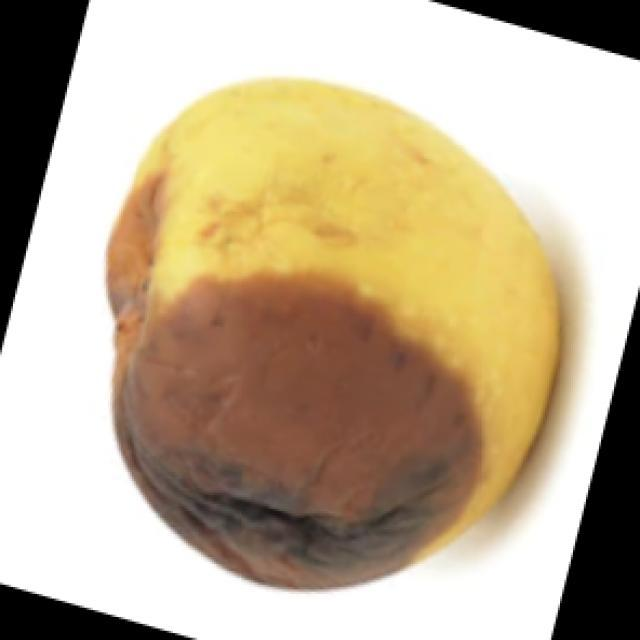Rotten: (90, 50, 558, 608)
